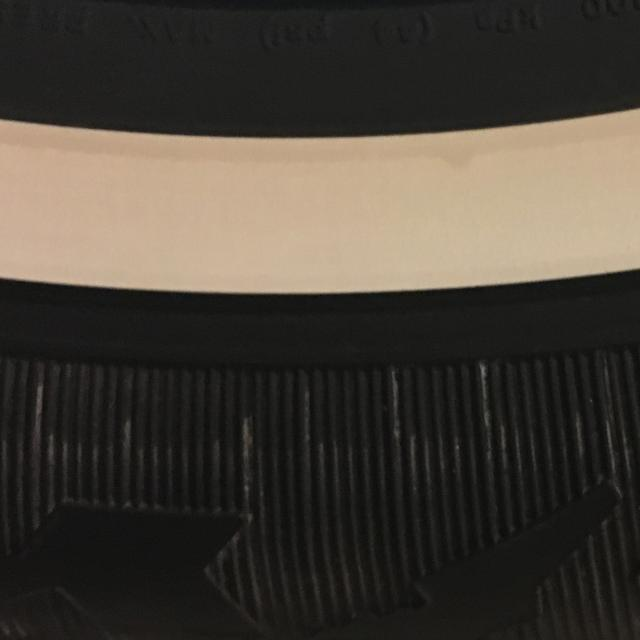Non-defective: (0, 338, 640, 640)
